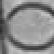no answer: (6, 2, 54, 51)
